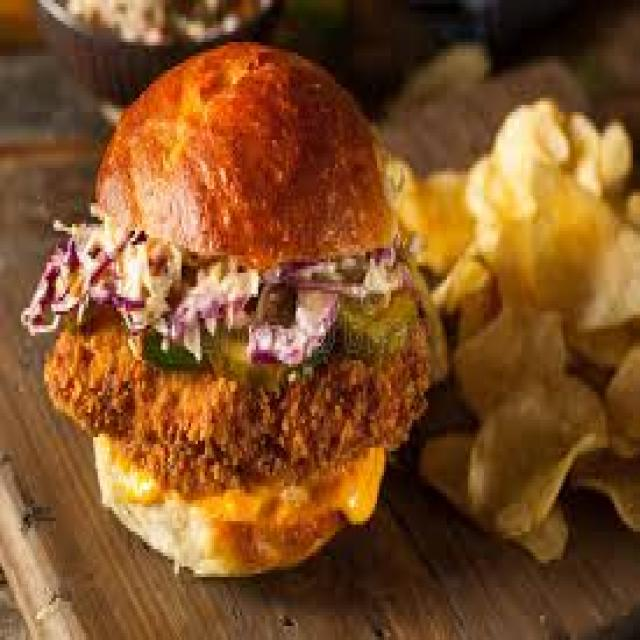햄버거: (21, 42, 449, 584)
